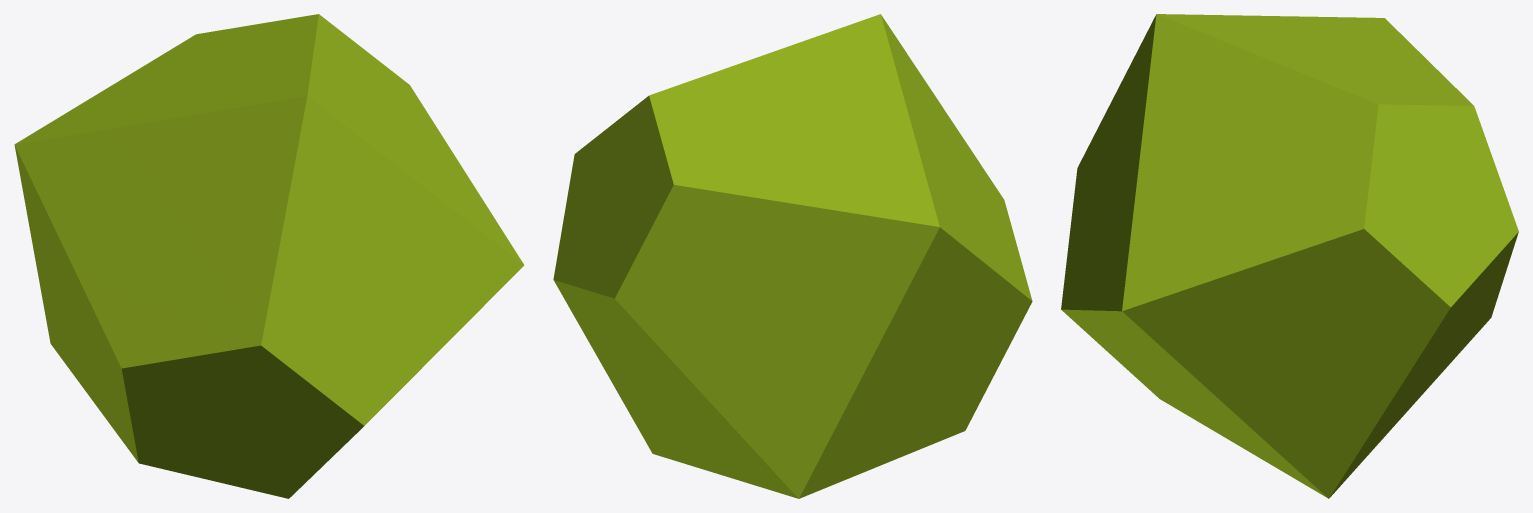
File: Vegetation_Modular_Tree_Foliage_Clump_Large_07.fbx
3 views of the same model, side by side, from view 1: azimuth 30°, elevation 25°; view 2: azimuth 150°, elevation 25°; view 3: azimuth 270°, elevation 25° (orthographic). The views are drawn at different scales.
Visible parts, largest first — view 1: Vegetation_Modular_Tree_Foliage_Clump_Large_07; view 2: Vegetation_Modular_Tree_Foliage_Clump_Large_07; view 3: Vegetation_Modular_Tree_Foliage_Clump_Large_07.
Part boxes in pixels (<box>): Vegetation_Modular_Tree_Foliage_Clump_Large_07: <box>14,14,524,498</box>; Vegetation_Modular_Tree_Foliage_Clump_Large_07: <box>553,14,1032,498</box>; Vegetation_Modular_Tree_Foliage_Clump_Large_07: <box>1061,14,1518,498</box>.
Bounding box in the file's own units: 1783 × 1869 × 1870.
